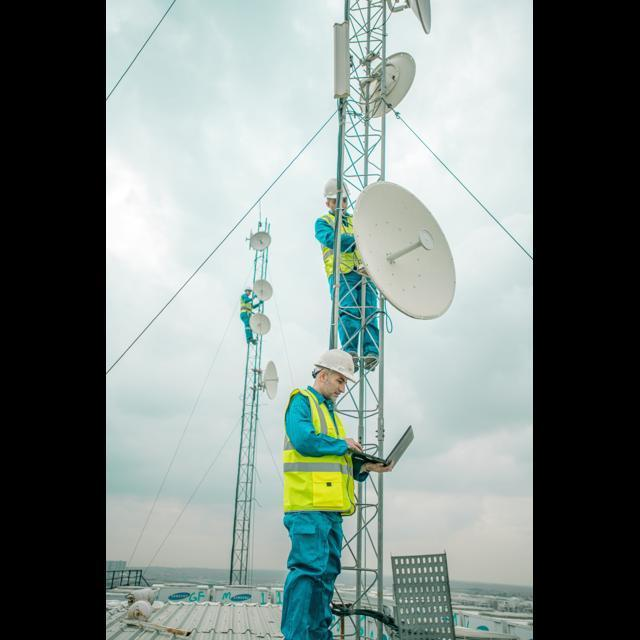helmet: (293, 342, 364, 383), (321, 170, 347, 204)
safety_vest: (284, 383, 358, 515), (310, 212, 375, 280)
